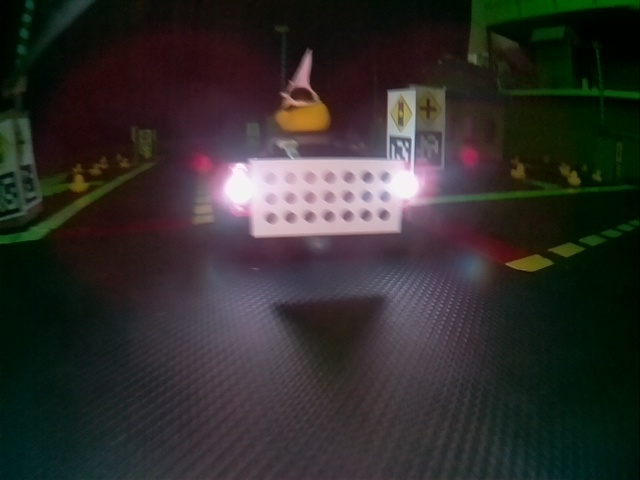Duckie: (276, 101, 331, 133), (73, 175, 88, 191), (511, 165, 525, 178), (569, 172, 579, 186)
Duckiebot: (223, 148, 411, 235)
Intersection sign: (416, 90, 441, 124)
QR code: (417, 130, 443, 168), (1, 172, 23, 214), (21, 164, 39, 207), (389, 136, 411, 168)
Signal sign: (387, 93, 412, 128)
